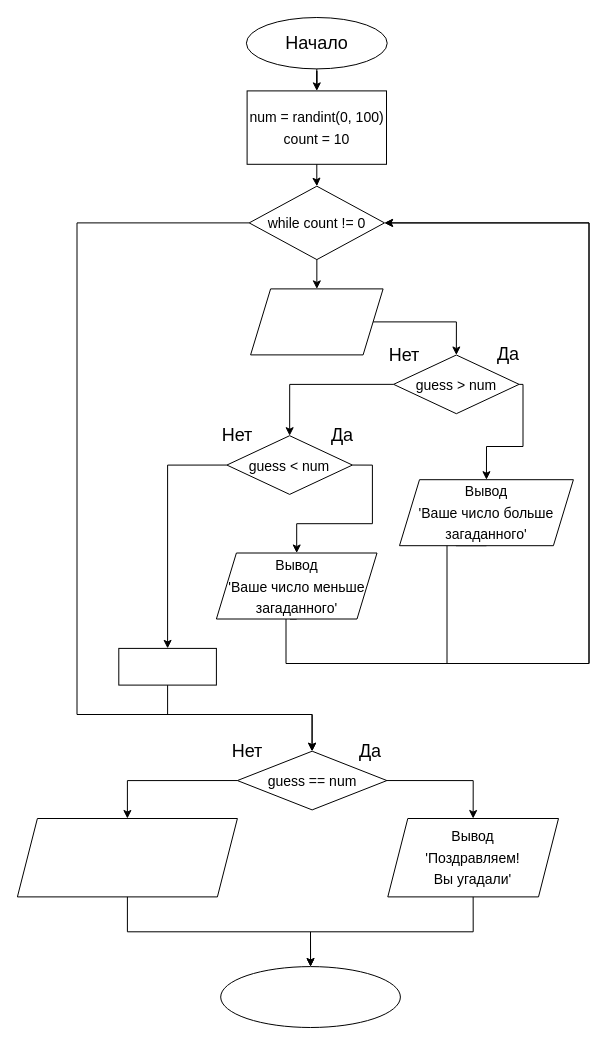
Image size: 615x1045. Some labels were removed from this diagram. The shapes that lost their labels are listed below. From the top down, each one's centre as x and y in pixels, then its label:
At (316,321): "Ввод guess".
At (167,666): "break".
At (126,857): "Вывод f'Увы! Вы не угадали. Загаданное число - {num}'".
At (310,997): "Конец".
